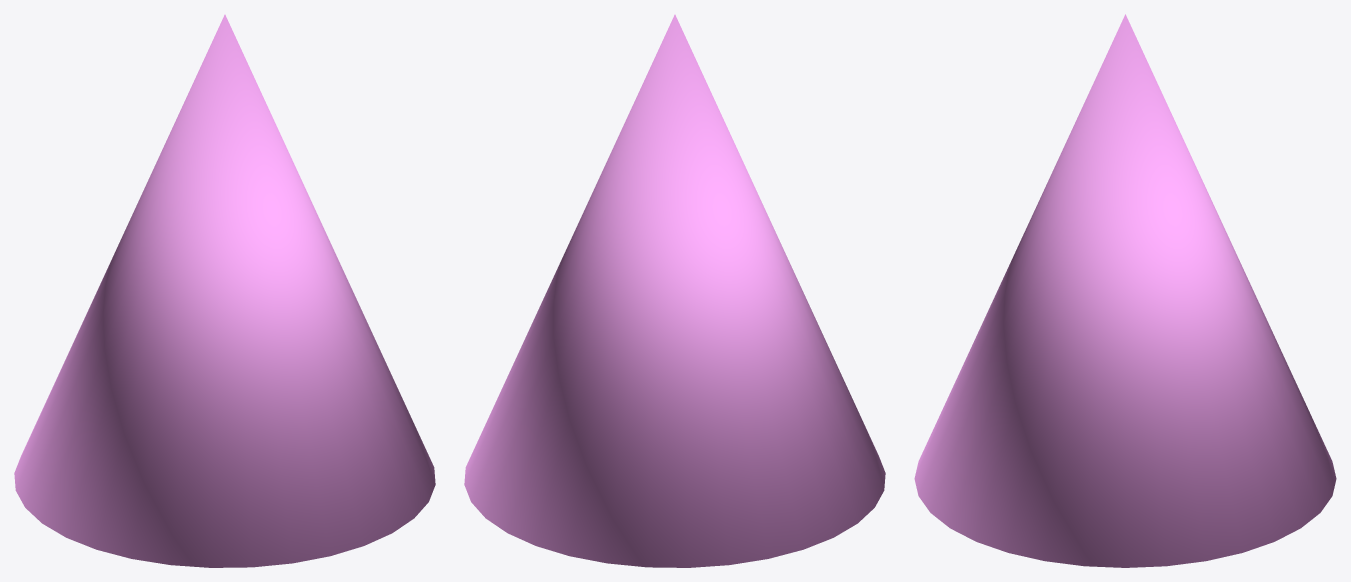
The model's file is Kerucut Normal.glb.
The picture shows the model from 3 angles, left to right: view 1: azimuth 30°, elevation 25°; view 2: azimuth 150°, elevation 25°; view 3: azimuth 270°, elevation 25°; orthographic projection.
Parts seen in each view (by area): view 1: Cylinder; view 2: Cylinder; view 3: Cylinder.
Part boxes in pixels (box(x1,y1,x2,y2)): Cylinder: box(14, 14, 435, 567); Cylinder: box(464, 14, 885, 567); Cylinder: box(914, 14, 1336, 567).
Bounding box in the file's own units: 3.06 × 3.72 × 3.06.
